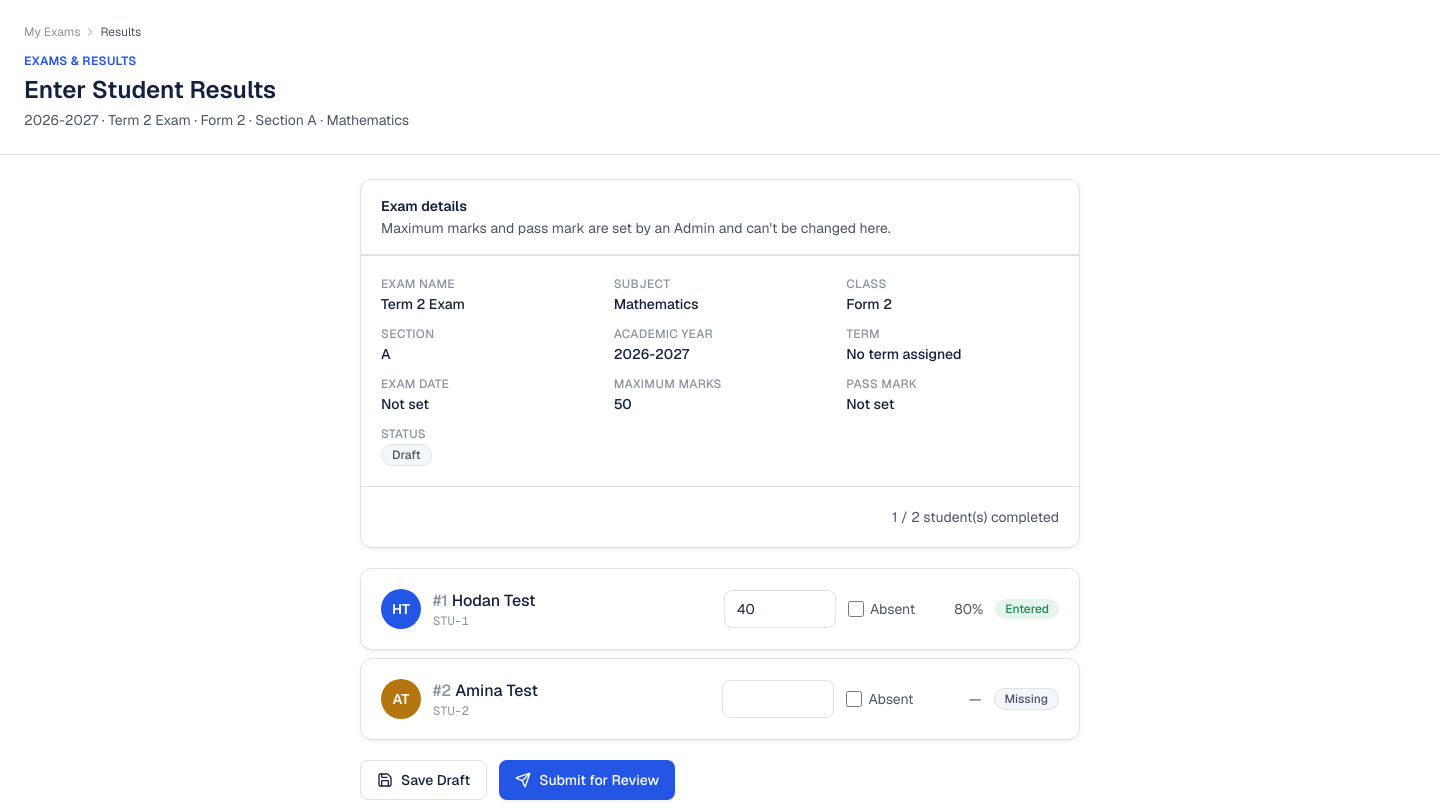
Results page - mark validation is visible and enforced › a mark of -1 shows the message under that student's row and blocks Save and Submit
Expected: the text "Term 2 Exam" is shown, x1=381 y1=295 x2=465 y2=313
Step 1. Type "-1" into the number field named "Mark for Amina Test" → (778, 699), box x1=722 y1=680 x2=834 y2=718
(page scrolled)
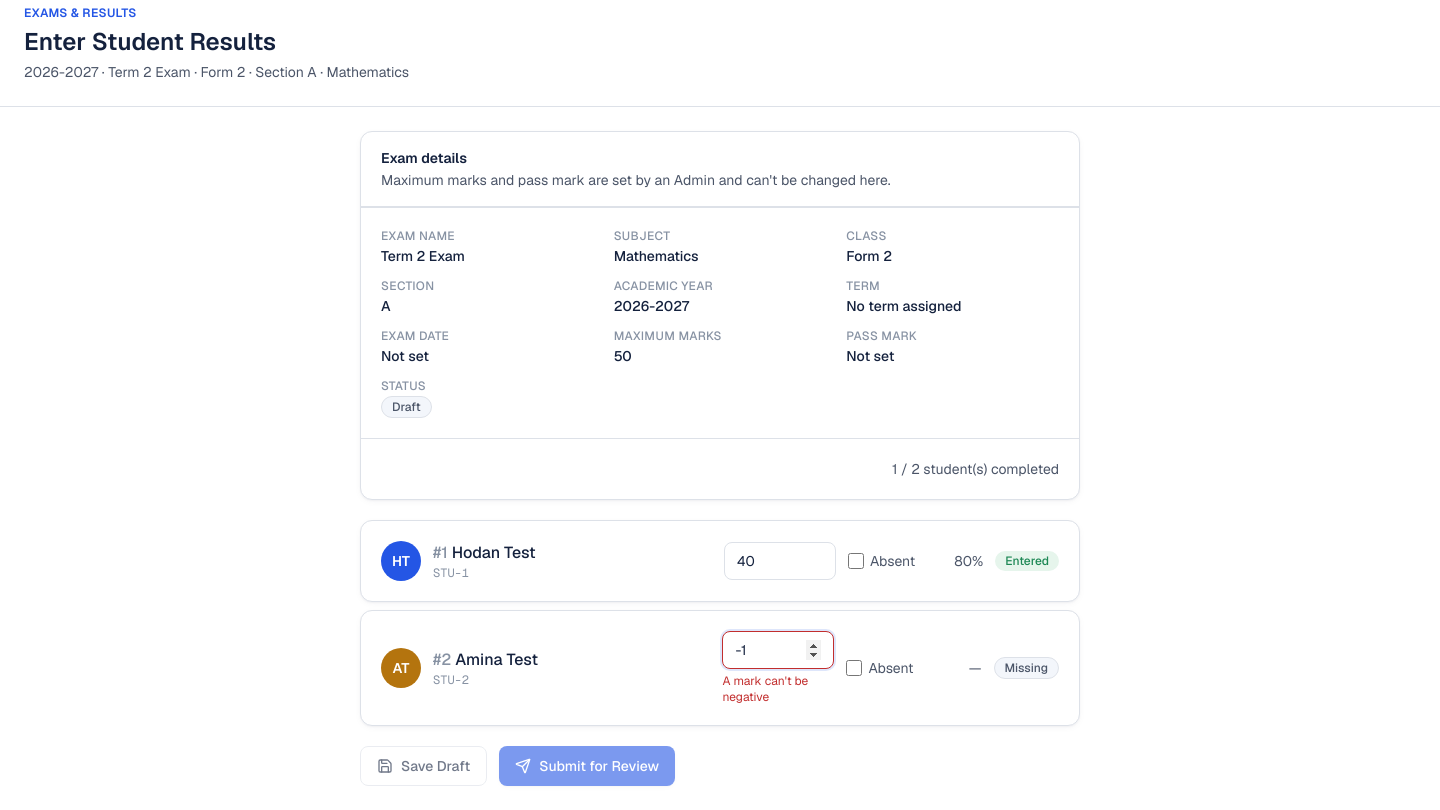
Result: the message reads "A mark can't be negative" at x1=722 y1=673 x2=808 y2=705
Result: the button "Save Draft" is disabled at x1=360 y1=746 x2=487 y2=786
Result: the button "Submit for Review" is disabled at x1=499 y1=746 x2=675 y2=786
